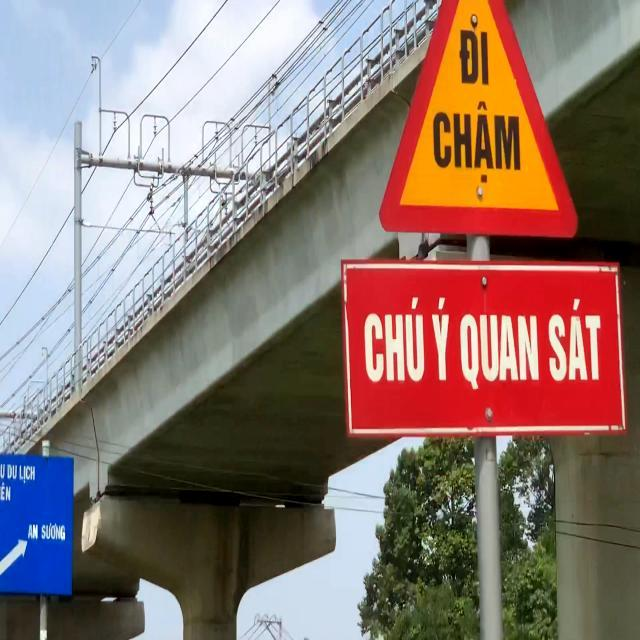Di cham: (370, 0, 582, 248)
